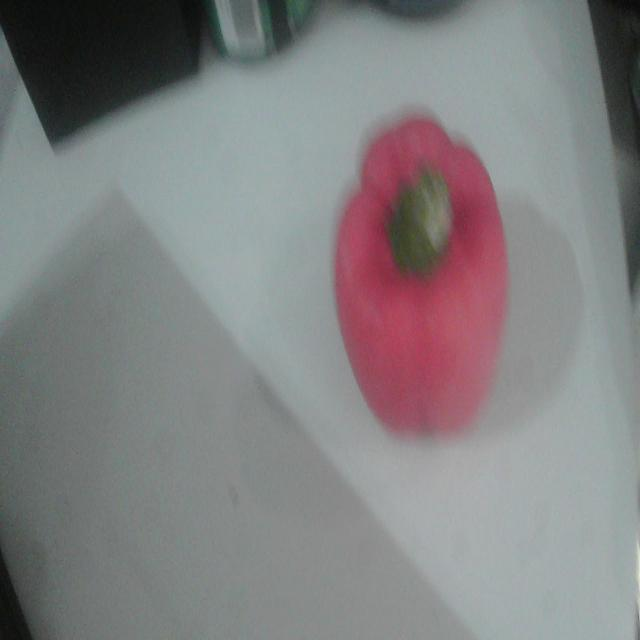Bell Pepper: (334, 116, 509, 435)
